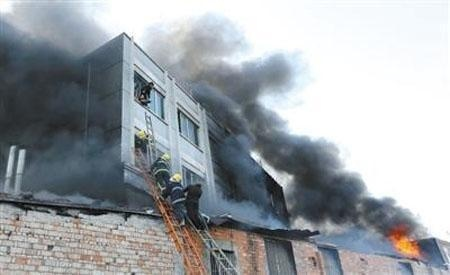fire: (389, 224, 420, 255)
